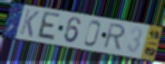0: (83, 20, 102, 48)
3: (127, 27, 145, 55)
6: (64, 17, 81, 44)
E: (35, 11, 62, 43)
K: (19, 8, 41, 39)
R: (101, 23, 127, 53)
